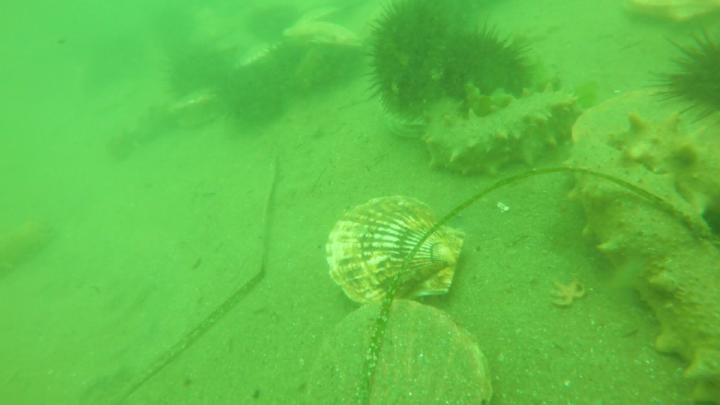echinus: (371, 1, 450, 118), (442, 23, 533, 108), (652, 20, 720, 126), (219, 61, 289, 129), (166, 46, 228, 103), (246, 6, 303, 44)
holothurian: (568, 132, 720, 405), (424, 85, 589, 182), (610, 111, 720, 222)
scallop: (302, 296, 500, 405), (323, 191, 471, 311), (167, 80, 226, 134), (620, 1, 720, 26), (293, 17, 362, 48), (232, 36, 287, 74)
